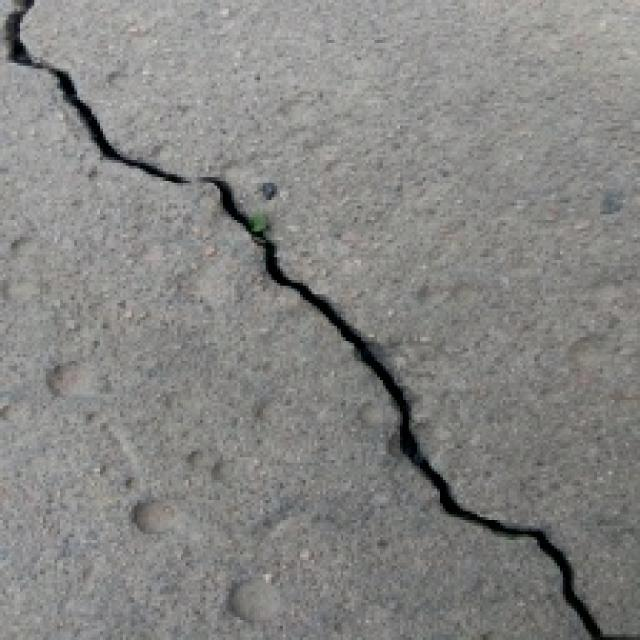crack: (2, 4, 594, 640)
